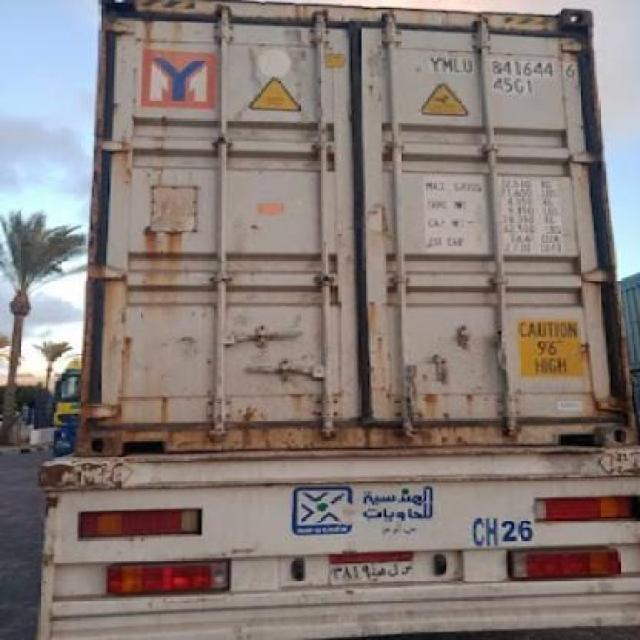ISO: (496, 75, 540, 98)
container_number: (442, 53, 568, 78)
